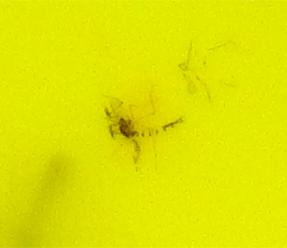Nematocera: (100, 100, 187, 148)
